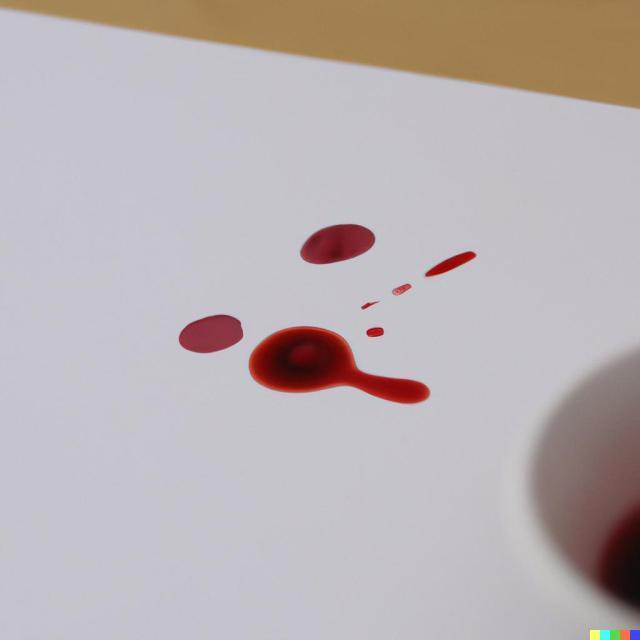flood: (184, 212, 484, 418)
